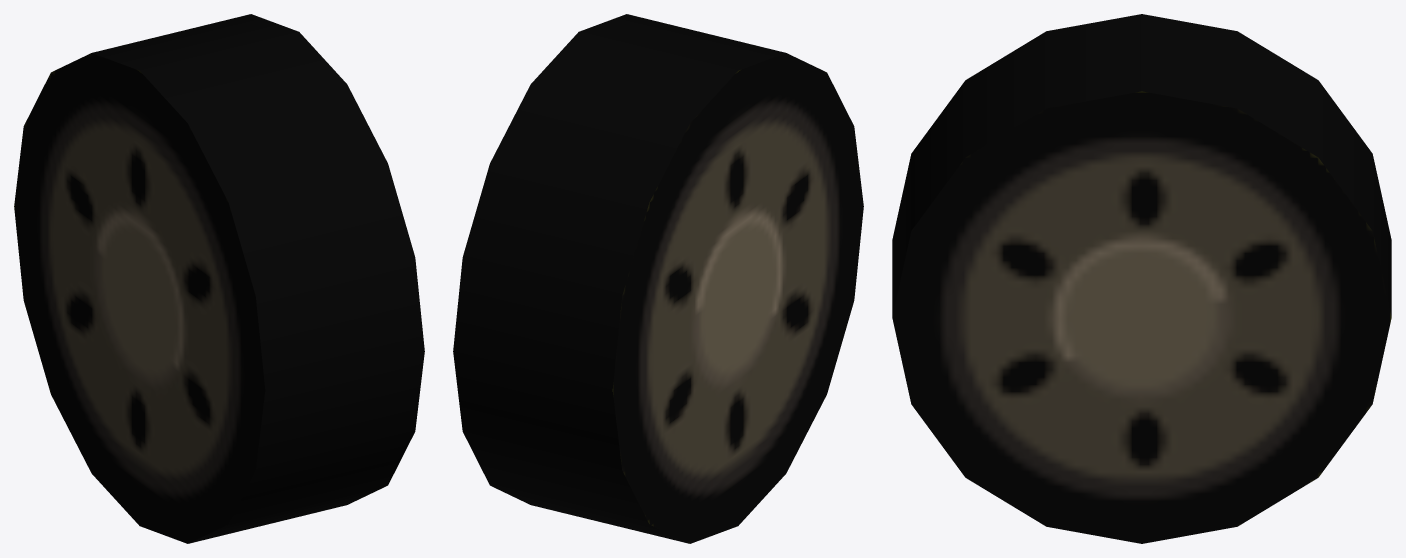
File: Tank1_Small_Wheel.fbx
The picture shows the model from 3 angles, left to right: view 1: azimuth 30°, elevation 25°; view 2: azimuth 150°, elevation 25°; view 3: azimuth 270°, elevation 25°; orthographic projection.
Visible parts, largest first — view 1: small_wheel; view 2: small_wheel; view 3: small_wheel.
Part boxes in pixels (x1,y1,x2,y2): small_wheel: [14, 14, 424, 543]; small_wheel: [453, 14, 863, 543]; small_wheel: [892, 14, 1391, 543].
Size of the model in its own units: 0.2534 by 0.691 by 0.691.
